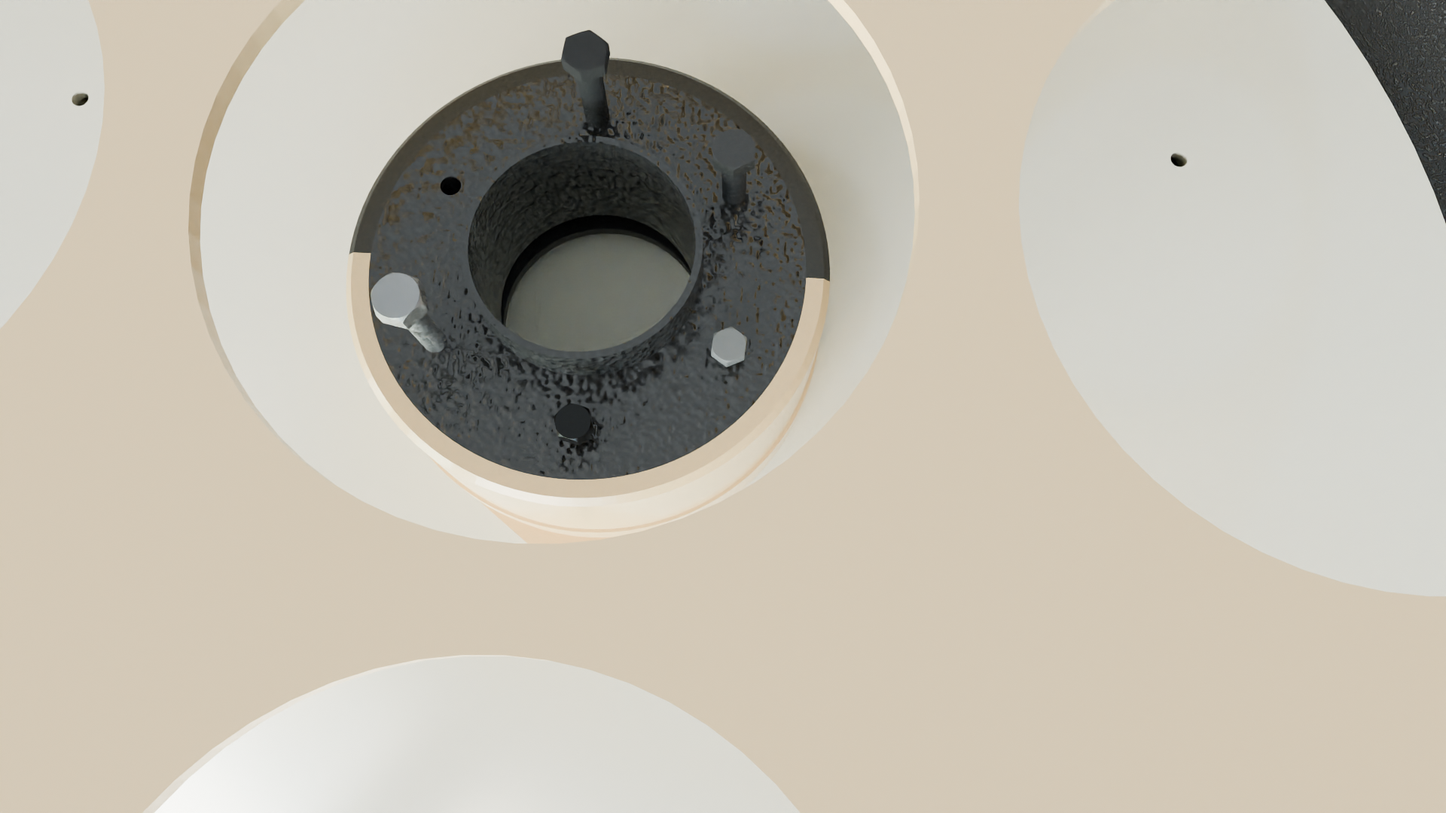bolt: (371, 273, 423, 323), (561, 30, 609, 74), (712, 127, 755, 170), (554, 403, 593, 442), (711, 327, 747, 364)
